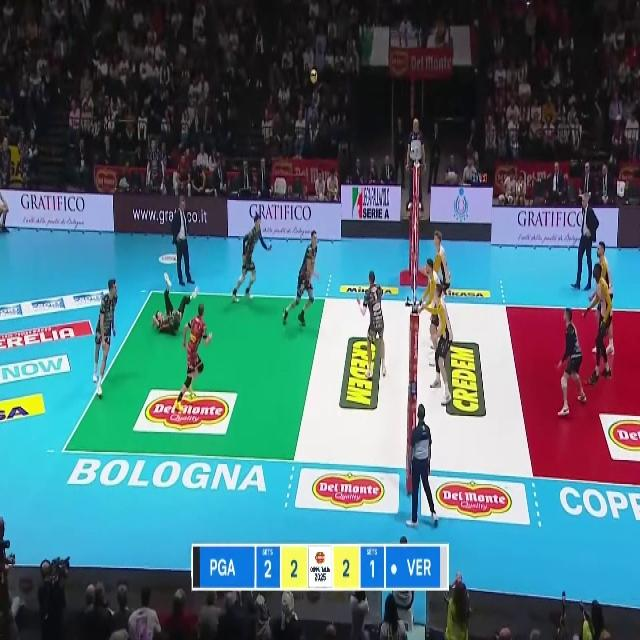volleyball court: (63, 285, 640, 484)
